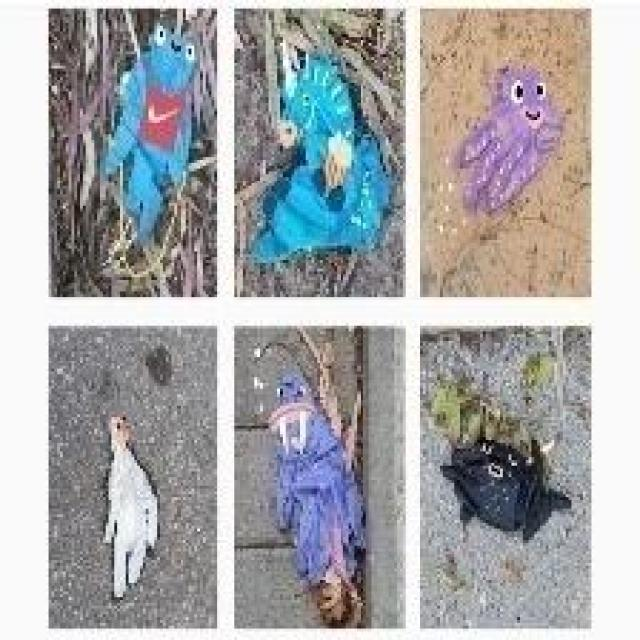Glove: (250, 44, 393, 280), (423, 341, 568, 566), (264, 345, 369, 600), (94, 6, 199, 246), (448, 43, 560, 233), (105, 428, 162, 599)
